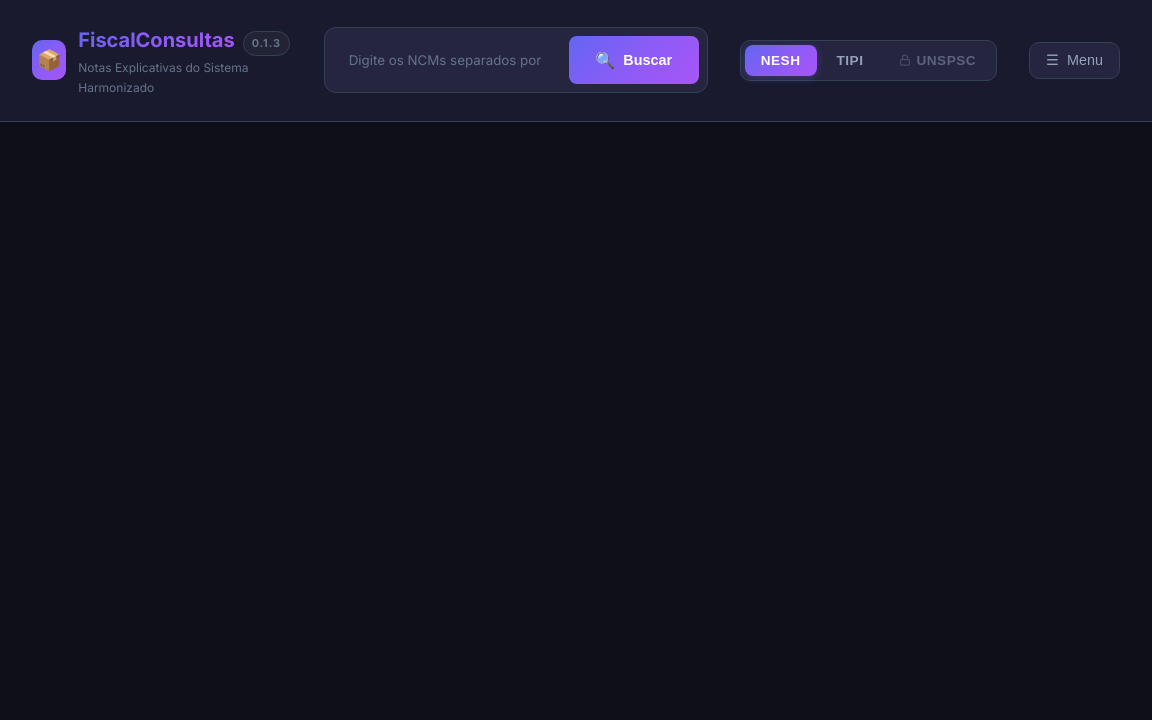
Test: Header › renders fallback user labels when auth profile is missing
What coordinates should you click on to do the following:
click the button "☰ Menu"
I would click on:
 (1075, 60)
Its box is [1029,42,1120,79].
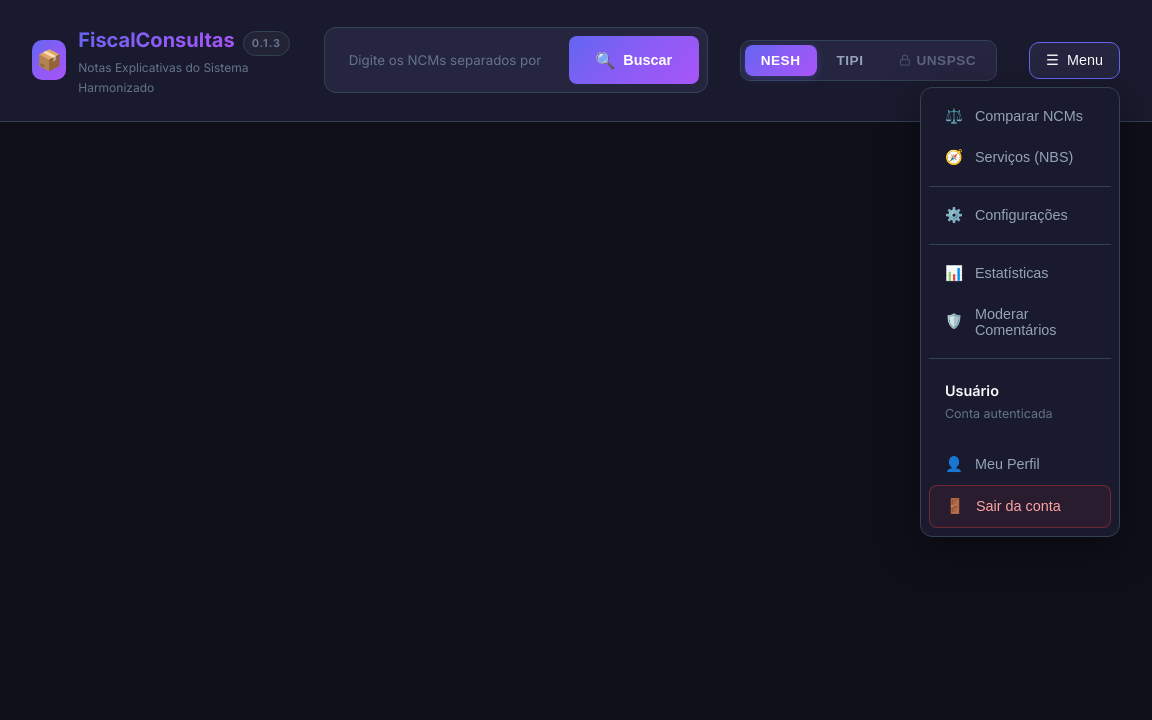
Now the text "Usuário" is shown, box [945,382,999,399]
Now the text "Conta autenticada" is shown, box [945,404,1053,424]
